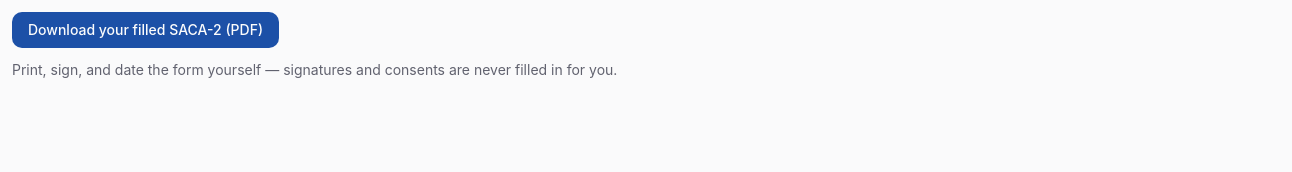
Test case: Saca2Download › shows the long-list advice on 422 without echoing answer content
The width and height of the screenshot is (1292, 172).
Step 1. Click the button "Download your filled SACA-2 (PDF)" → (146, 30), box [12,12,279,48]
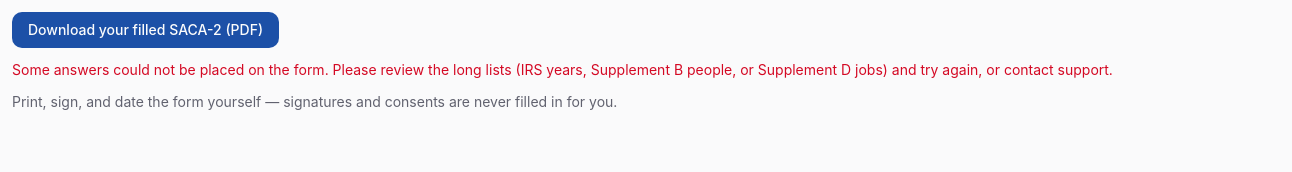
Expected: the message shows "Some answers could not be placed on the form.", [12,61,1113,78]
Expected: the message shows "IRS years, Supplement B people, or Supplement D jobs", [12,61,1113,78]
Expected: the message shows "contact support", [12,61,1113,78]
